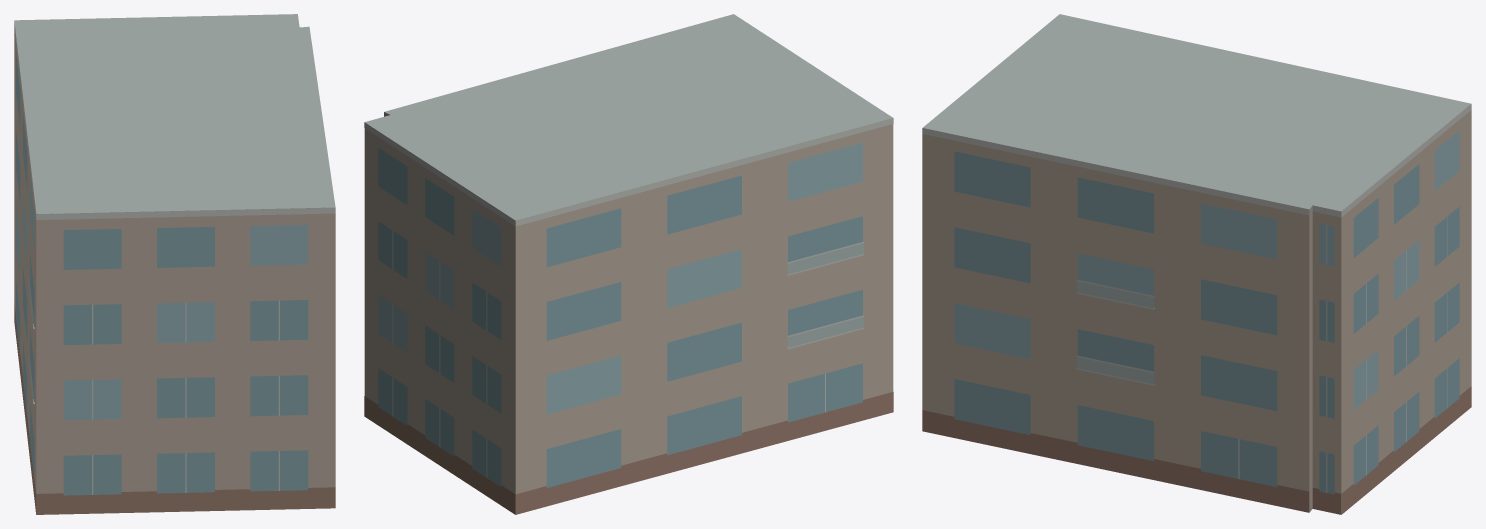
File: survey-upis-32707057.glb
3 renders of one model, left to right at view 1: azimuth 30°, elevation 25°; view 2: azimuth 150°, elevation 25°; view 3: azimuth 270°, elevation 25°, orthographic. The views are drawn at different scales.
Visible parts, largest first — view 1: survey-upis-32707057.tmp; view 2: survey-upis-32707057.tmp; view 3: survey-upis-32707057.tmp.
Part boxes in pixels (x1,y1,x2,y2): survey-upis-32707057.tmp: (14, 14, 335, 514); survey-upis-32707057.tmp: (364, 14, 893, 514); survey-upis-32707057.tmp: (922, 14, 1471, 514).
Size of the model in its own units: 17.04 by 12.2 by 20.02.
